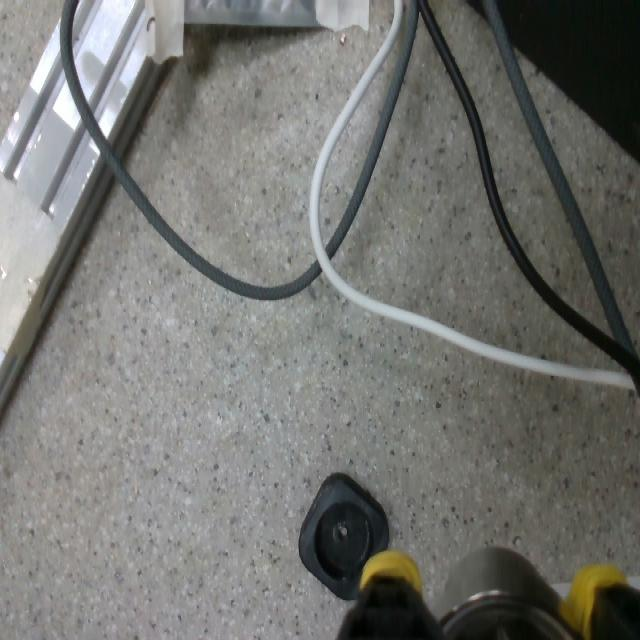cell: (298, 475, 390, 599)
